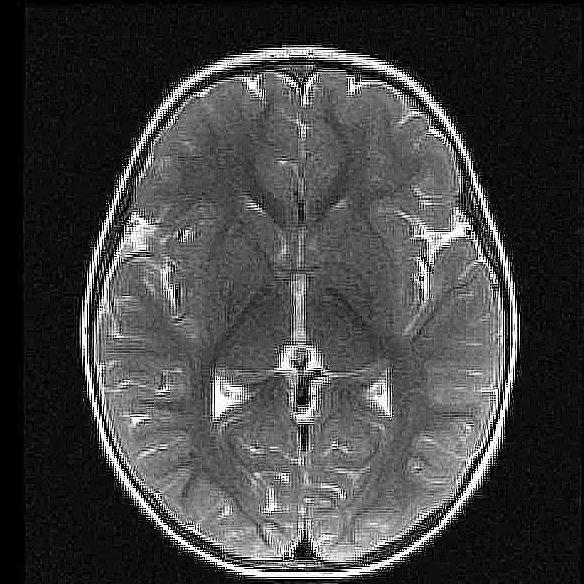Normal_Brain: (1, 2, 584, 584)
